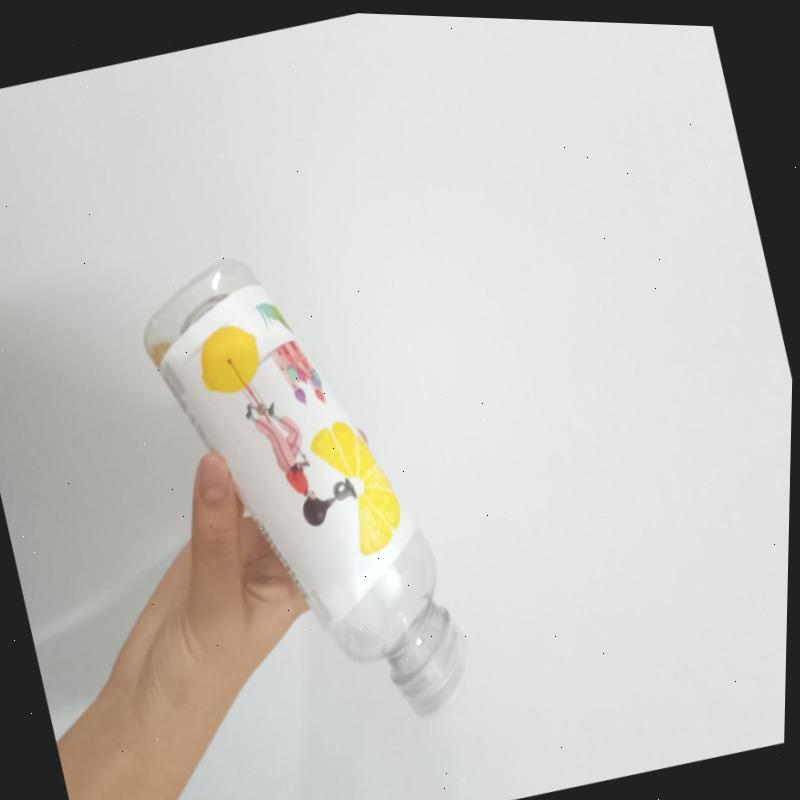botella: (116, 212, 501, 772)
